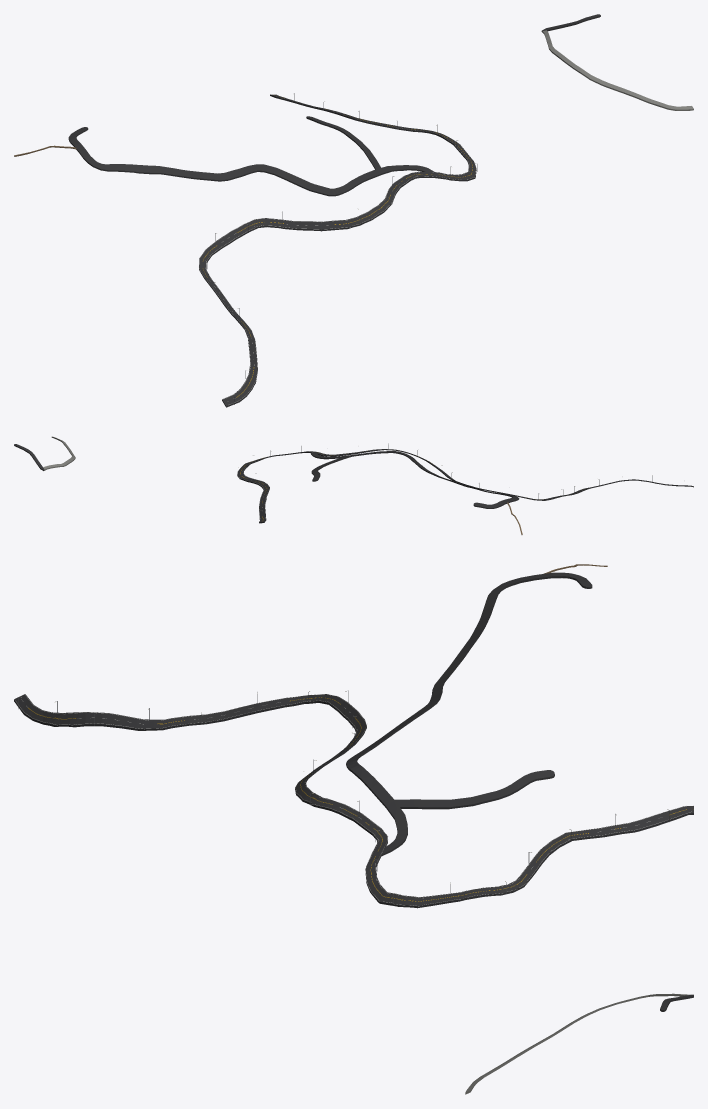
The picture shows the model from 3 angles, top to bottom: view 1: azimuth 30°, elevation 25°; view 2: azimuth 150°, elevation 25°; view 3: azimuth 270°, elevation 25°; orthographic projection. The views are drawn at different scales.
Bounding box in the file's own units: 587 × 103 × 393.
